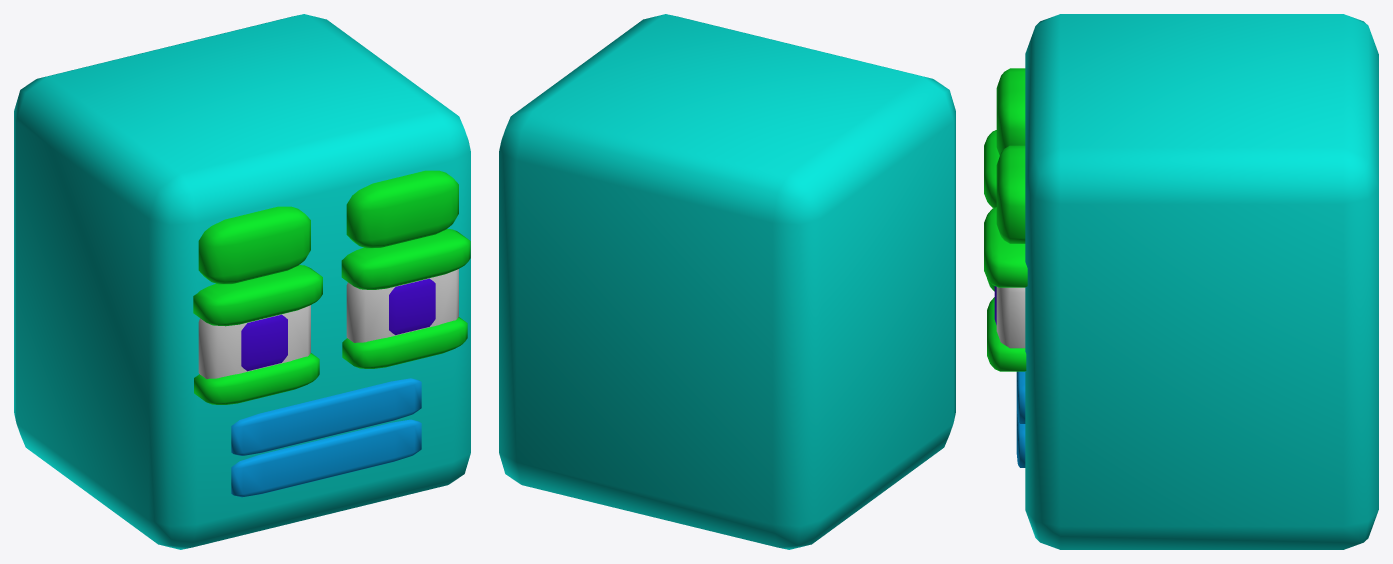
File: robot.glb
3 views of the same model, side by side, from view 1: azimuth 30°, elevation 25°; view 2: azimuth 150°, elevation 25°; view 3: azimuth 270°, elevation 25° (orthographic). The views are drawn at different scales.
Parts seen in each view (by area): view 1: robot_haed; view 2: robot_haed; view 3: robot_haed.
Part boxes in pixels (x1,y1,x2,y2): robot_haed: (14,14,470,549); robot_haed: (499,14,955,549); robot_haed: (984,14,1378,549).
Size of the model in its own units: 0.8 by 0.9 by 0.8.
